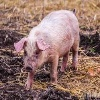heo: (14, 8, 83, 90)
